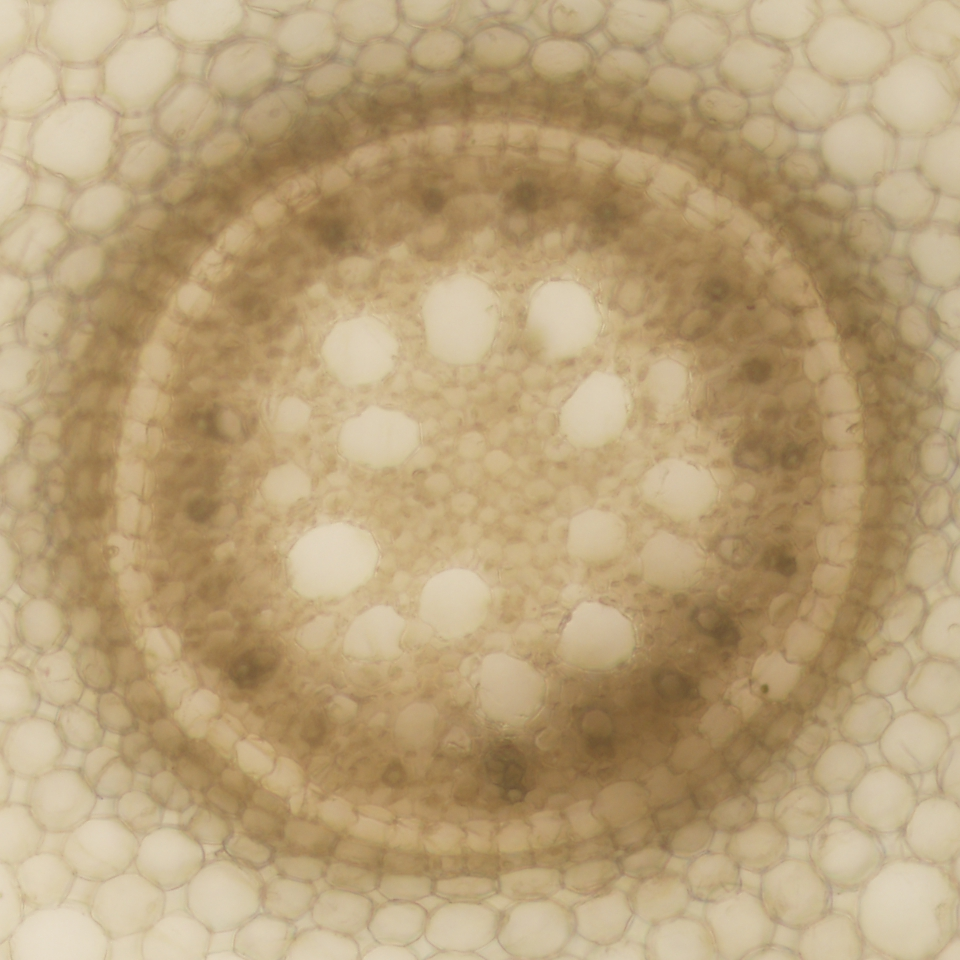lm: (557, 361, 700, 450), (640, 454, 720, 588), (282, 520, 380, 602), (421, 272, 502, 367), (524, 276, 603, 364), (294, 605, 406, 664), (556, 601, 639, 678), (415, 567, 495, 642), (471, 652, 549, 726), (338, 403, 423, 470), (321, 317, 401, 387), (565, 512, 626, 566)
